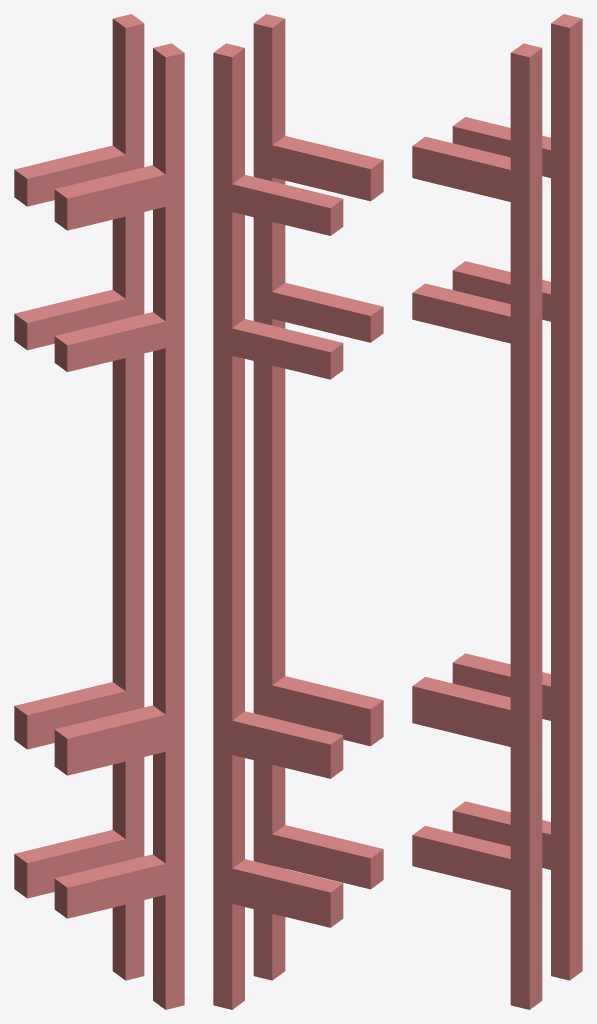
Rendered from Generator_Wall_Pipe_Stand.fbx.
The picture shows the model from 3 angles, left to right: view 1: azimuth 30°, elevation 25°; view 2: azimuth 150°, elevation 25°; view 3: azimuth 330°, elevation 25°; orthographic projection.
Parts seen in each view (by area): view 1: Generator_Wall_Pipe_Stand; view 2: Generator_Wall_Pipe_Stand; view 3: Generator_Wall_Pipe_Stand.
Part boxes in pixels (left/top/right/bottom): Generator_Wall_Pipe_Stand: left=14, top=14, right=184, bottom=1009; Generator_Wall_Pipe_Stand: left=213, top=14, right=383, bottom=1009; Generator_Wall_Pipe_Stand: left=412, top=14, right=582, bottom=1009.
Size of the model in its own units: 8.72 by 67.75 by 6.82.
